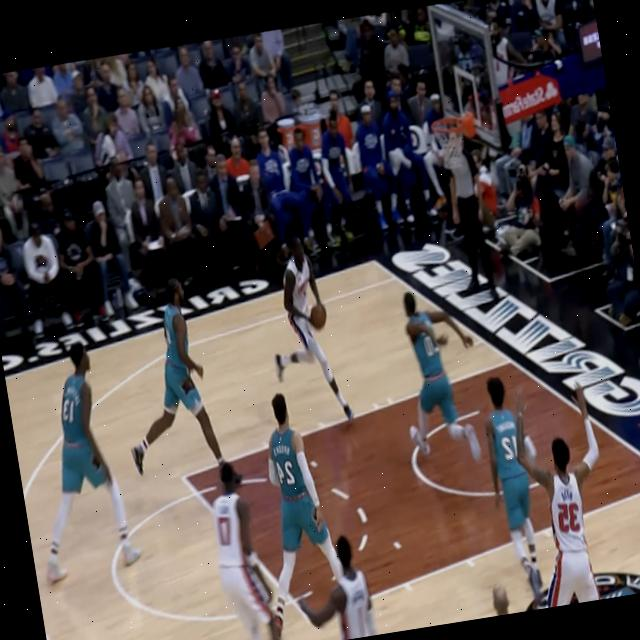no foul: (478, 367, 622, 613), (256, 383, 382, 640), (293, 518, 394, 640)
